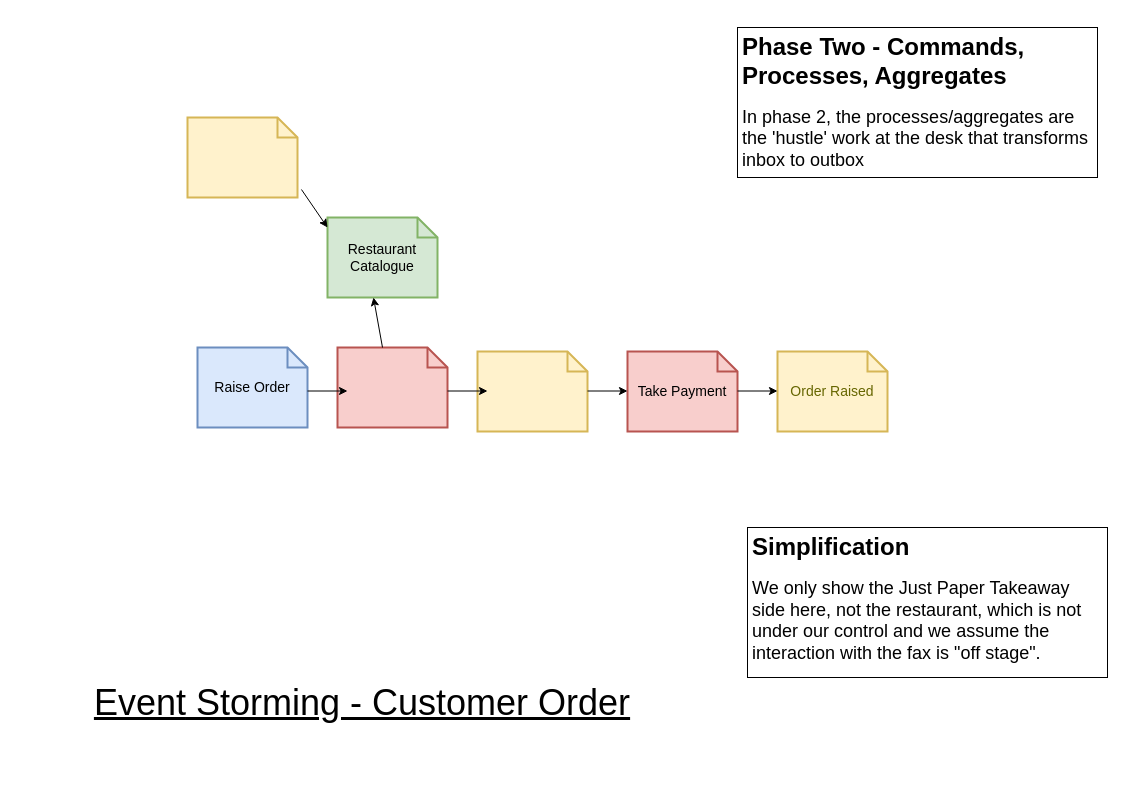
Some shapes in this 1125 by 804 pixel diagram are drawn without their labels. Each missing label, with the centre of its shape:
Order Taken: the point at 532,391
Restaurant Catalogue Updated: the point at 242,157
Take Order: the point at 392,387
